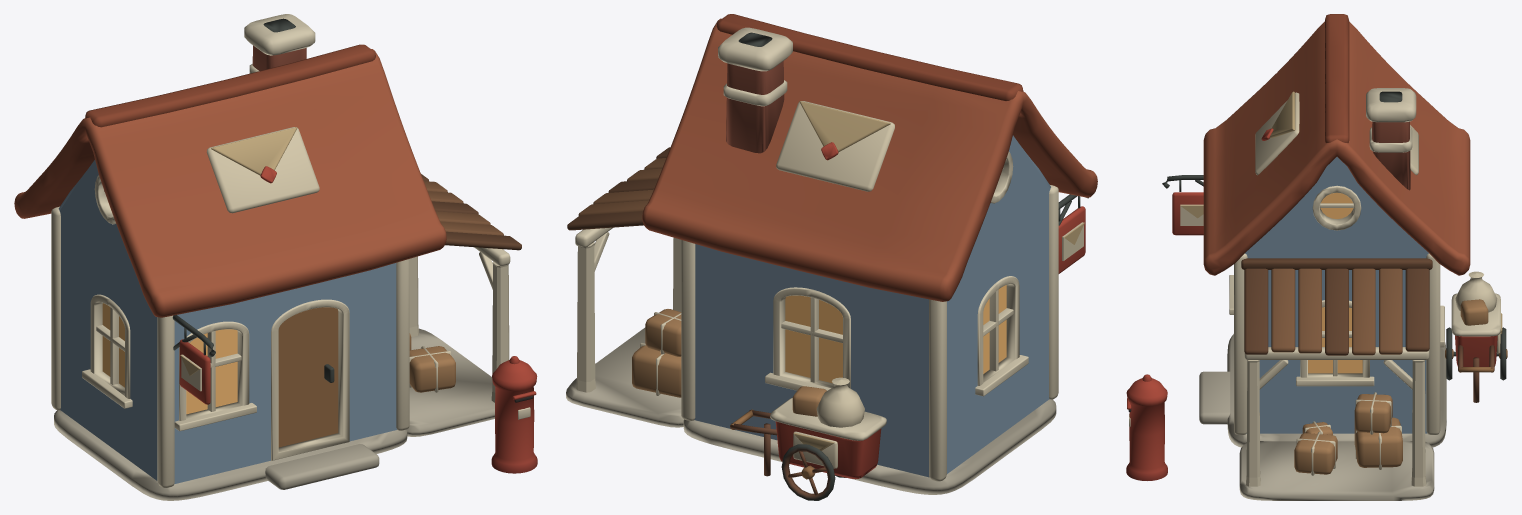
Rendered from BLD_Post_Office_A.fbx.
3 views of the same model, side by side, from view 1: azimuth 30°, elevation 25°; view 2: azimuth 150°, elevation 25°; view 3: azimuth 270°, elevation 25° (orthographic). The views are drawn at different scales.
Parts seen in each view (by area): view 1: BLD_Post_Office_A_Body_LOD0, BLD_Post_Office_A_Sign_LOD0; view 2: BLD_Post_Office_A_Body_LOD0, BLD_Post_Office_A_Sign_LOD0; view 3: BLD_Post_Office_A_Body_LOD0, BLD_Post_Office_A_Sign_LOD0.
Part boxes in pixels (left/top/right/bottom): BLD_Post_Office_A_Body_LOD0: left=14, top=14, right=537, bottom=500; BLD_Post_Office_A_Sign_LOD0: left=179, top=328, right=210, bottom=404; BLD_Post_Office_A_Body_LOD0: left=566, top=14, right=1097, bottom=500; BLD_Post_Office_A_Sign_LOD0: left=1058, top=196, right=1085, bottom=273; BLD_Post_Office_A_Body_LOD0: left=1126, top=14, right=1507, bottom=500; BLD_Post_Office_A_Sign_LOD0: left=1172, top=180, right=1203, bottom=235.
Size of what is drawn, in the model's own units: 4.69 by 4.2 by 4.38.
